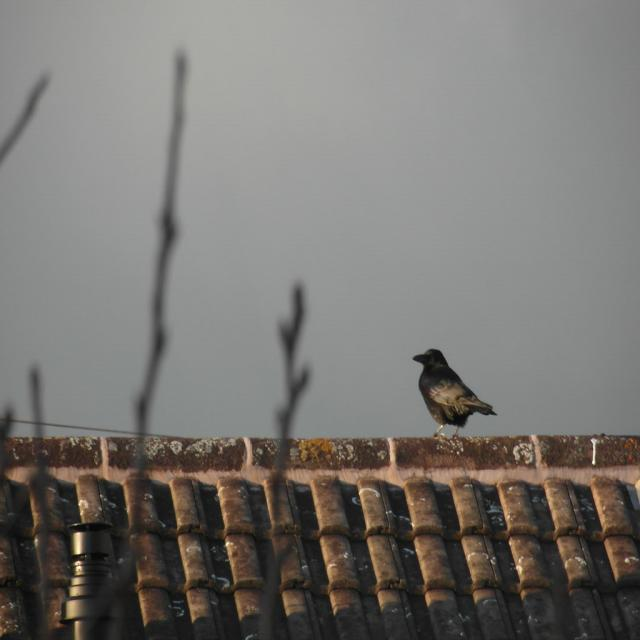bird: (410, 347, 499, 445)
